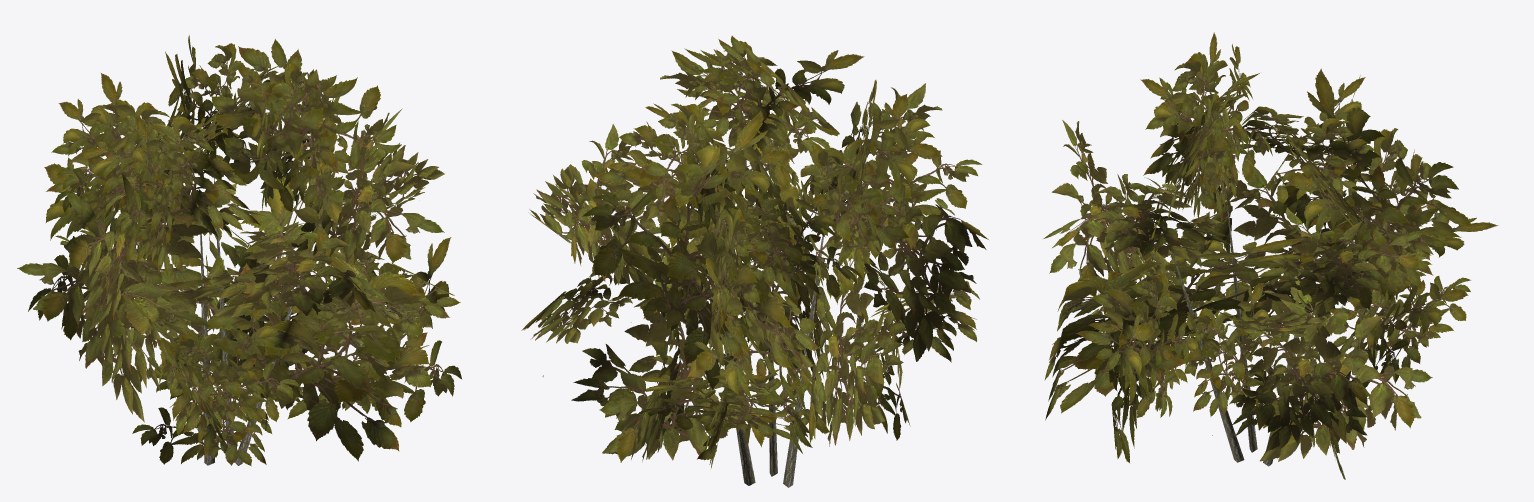
File: Vegetation_Shruds04_lod1.glb
3 views of the same model, side by side, from view 1: azimuth 30°, elevation 25°; view 2: azimuth 150°, elevation 25°; view 3: azimuth 270°, elevation 25° (orthographic). The views are drawn at different scales.
Parts seen in each view (by area): view 1: zw_shruds_04_lod1; view 2: zw_shruds_04_lod1; view 3: zw_shruds_04_lod1.
Boxes of the visible parts, <box> form: zw_shruds_04_lod1: <box>17,35,461,466</box>; zw_shruds_04_lod1: <box>521,35,988,487</box>; zw_shruds_04_lod1: <box>1043,32,1498,479</box>.
Bounding box in the file's own units: 2.26 × 2.3 × 2.41.
1 material, 1 textured.
